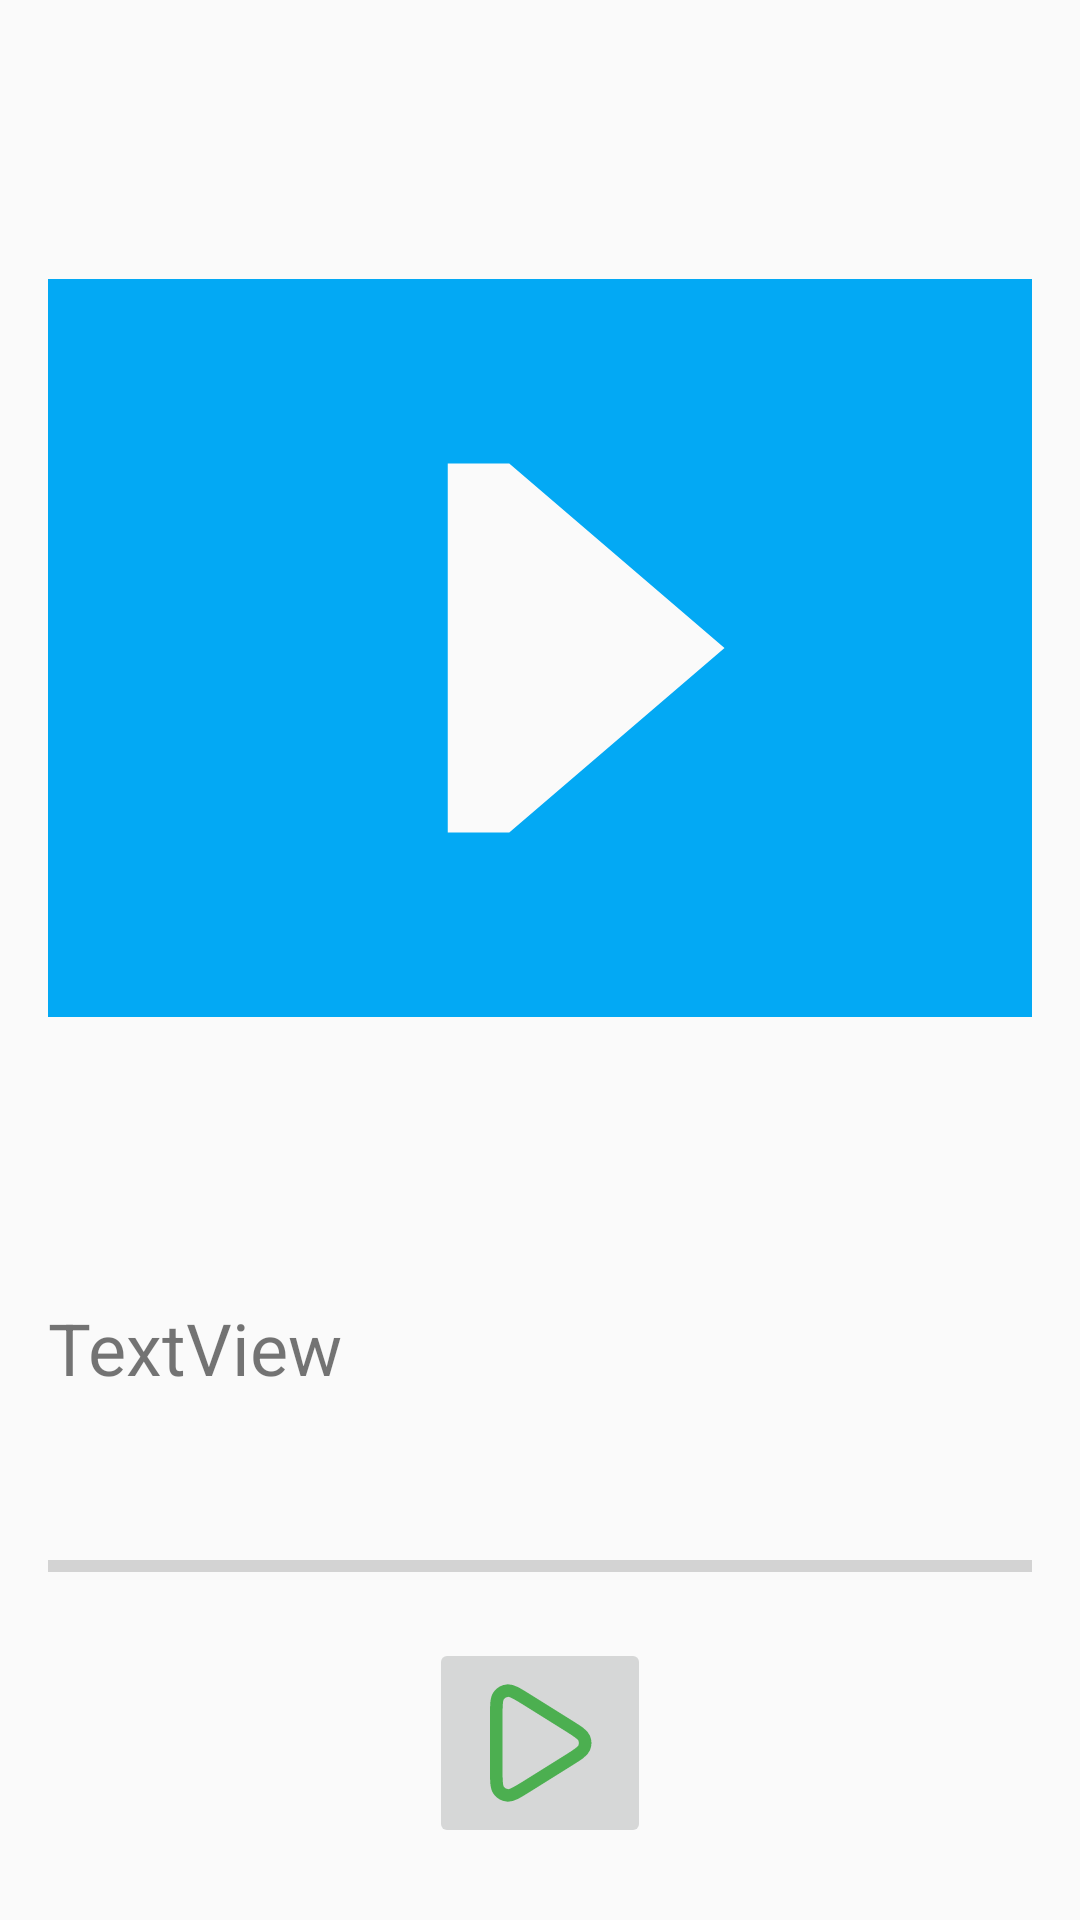

Named icons in this screenshot (1080px x 1920px) and their bounding boxes, (x1, y1, x2, y2):
Play|Pause: (441, 1656, 639, 1830)
